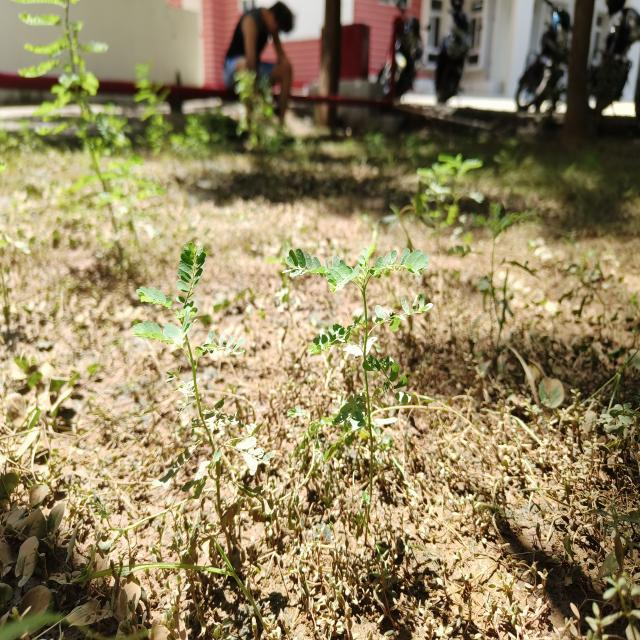weed: (275, 253, 434, 493), (131, 236, 216, 434)
